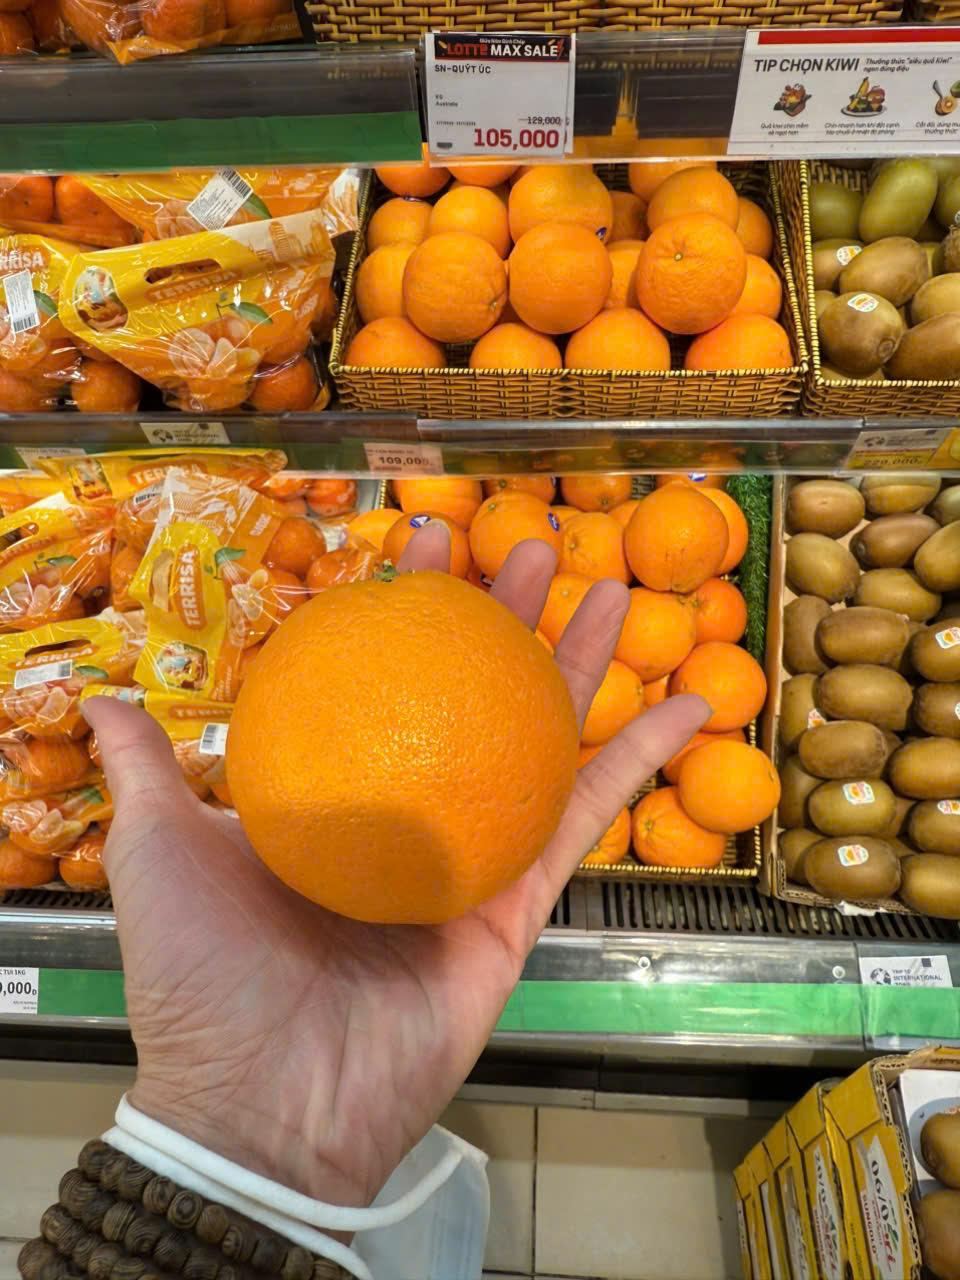orange: (220, 566, 580, 924), (390, 233, 502, 344), (672, 725, 782, 838), (630, 228, 750, 330), (628, 481, 732, 594), (508, 228, 612, 334), (500, 153, 620, 238), (560, 301, 688, 378), (675, 636, 770, 726), (682, 306, 794, 378), (605, 586, 694, 672), (458, 315, 572, 370), (640, 168, 744, 228), (422, 178, 506, 244)
